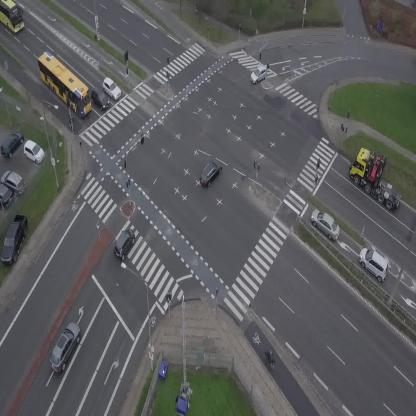bicycle: (263, 348, 278, 370), (191, 2, 201, 15), (68, 114, 75, 129)
bus: (29, 48, 101, 119)
car: (44, 318, 86, 375), (353, 243, 396, 284), (305, 206, 346, 243), (109, 225, 140, 261), (195, 156, 226, 190), (86, 86, 114, 112), (98, 76, 124, 102), (247, 64, 271, 86)
